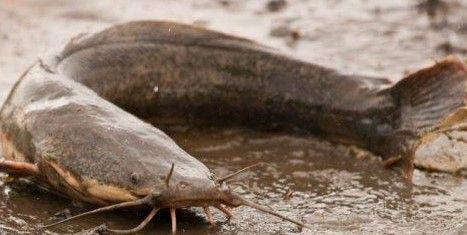Catfish: (0, 18, 467, 235)
